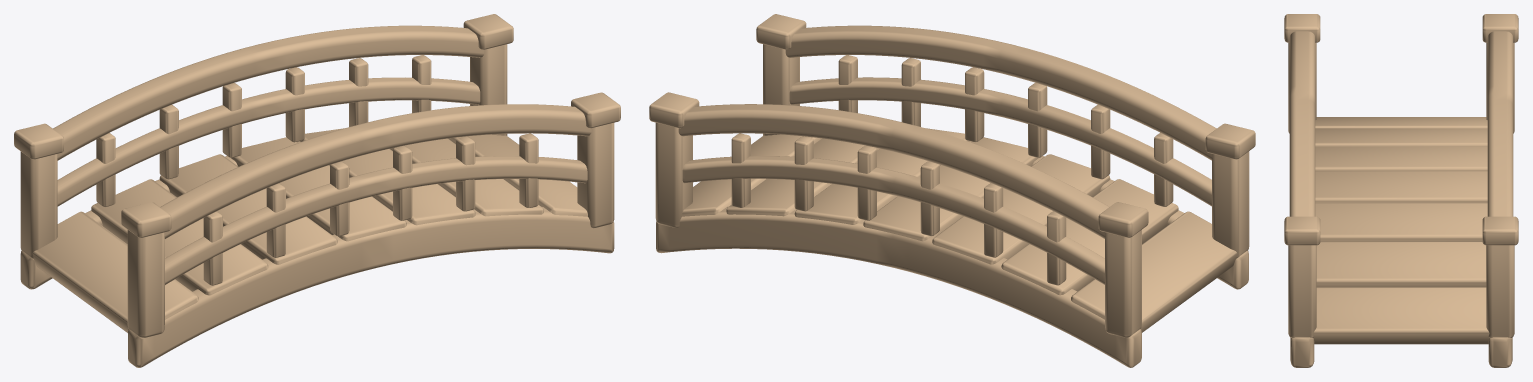
Rendered from kopru-kemerli.glb.
3 renders of one model, left to right at view 1: azimuth 30°, elevation 25°; view 2: azimuth 150°, elevation 25°; view 3: azimuth 270°, elevation 25°, orthographic. The views are drawn at different scales.
Visible parts, largest first — view 1: 67R_KOPRU_KEMERLI_01_BODY; view 2: 67R_KOPRU_KEMERLI_01_BODY; view 3: 67R_KOPRU_KEMERLI_01_BODY.
Boxes of the visible parts, x1,y1,x2,y2 form: 67R_KOPRU_KEMERLI_01_BODY: (14,14,620,367); 67R_KOPRU_KEMERLI_01_BODY: (649,14,1255,367); 67R_KOPRU_KEMERLI_01_BODY: (1284,14,1518,367).
Bounding box in the file's own units: 3.44 × 1.24 × 1.56.
